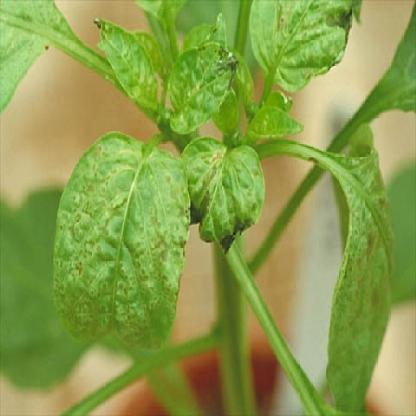Bell_pepper leaf: (51, 117, 190, 368), (318, 125, 392, 415), (180, 135, 268, 268), (249, 2, 357, 93), (90, 15, 163, 124), (166, 39, 240, 143)
